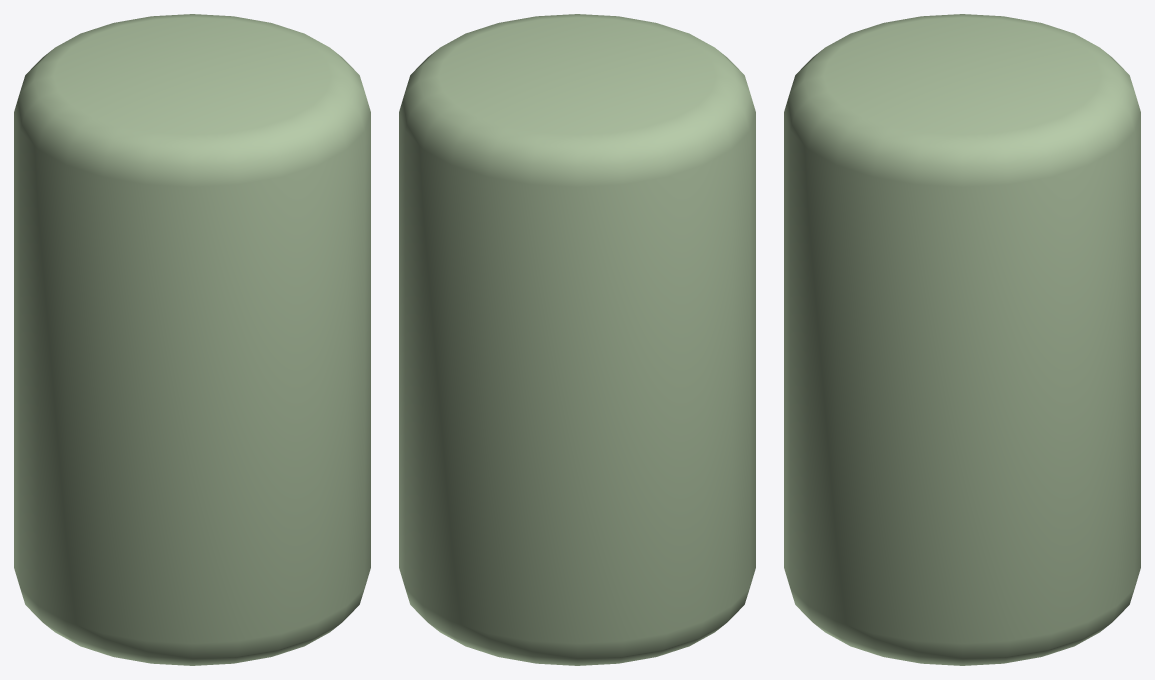
File: recycle-bin.glb
The picture shows the model from 3 angles, left to right: view 1: azimuth 30°, elevation 25°; view 2: azimuth 150°, elevation 25°; view 3: azimuth 270°, elevation 25°; orthographic projection.
Parts seen in each view (by area): view 1: bin; view 2: bin; view 3: bin.
Part boxes in pixels (x1,y1,x2,y2): bin: (14, 14, 370, 665); bin: (399, 14, 755, 665); bin: (784, 14, 1140, 665).
Size of the model in its own units: 0.38 by 0.62 by 0.38.
